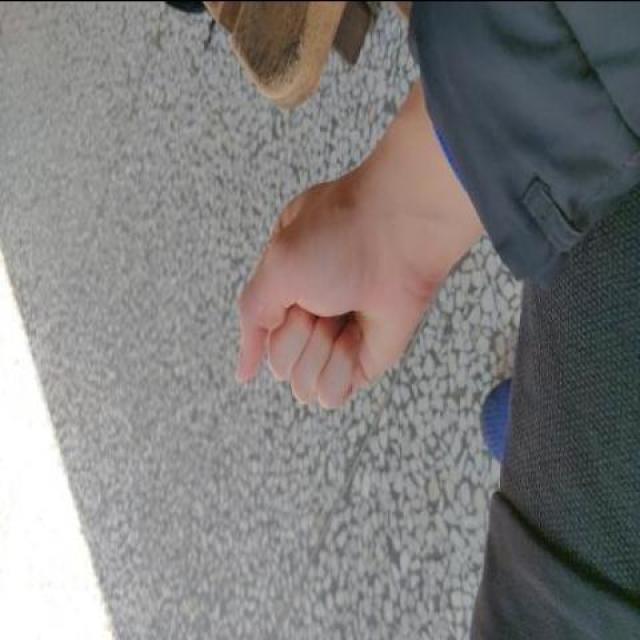fist: (213, 162, 443, 410)
